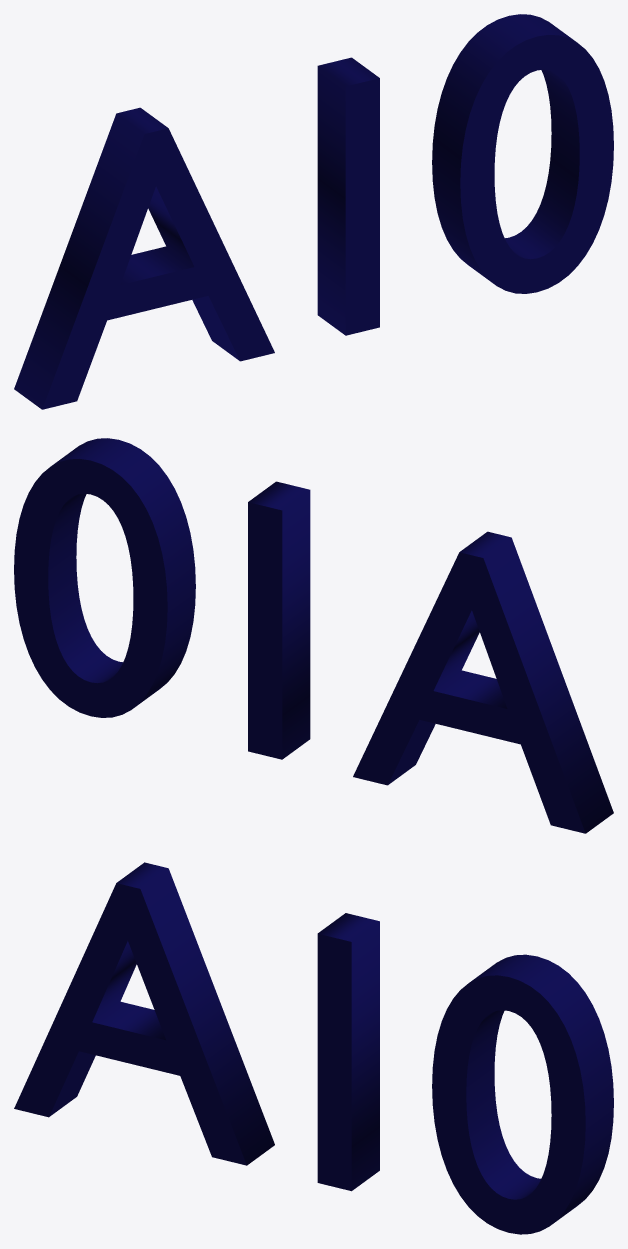
The picture shows the model from 3 angles, top to bottom: view 1: azimuth 30°, elevation 25°; view 2: azimuth 150°, elevation 25°; view 3: azimuth 330°, elevation 25°; orthographic projection.
Visible parts, largest first — view 1: Text; view 2: Text; view 3: Text.
Boxes of the visible parts, left/top/right/bottom form: Text: left=14, top=14, right=613, bottom=409; Text: left=14, top=438, right=613, bottom=833; Text: left=14, top=862, right=613, bottom=1234.
Bounding box in the file's own units: 164 × 70 × 14.
